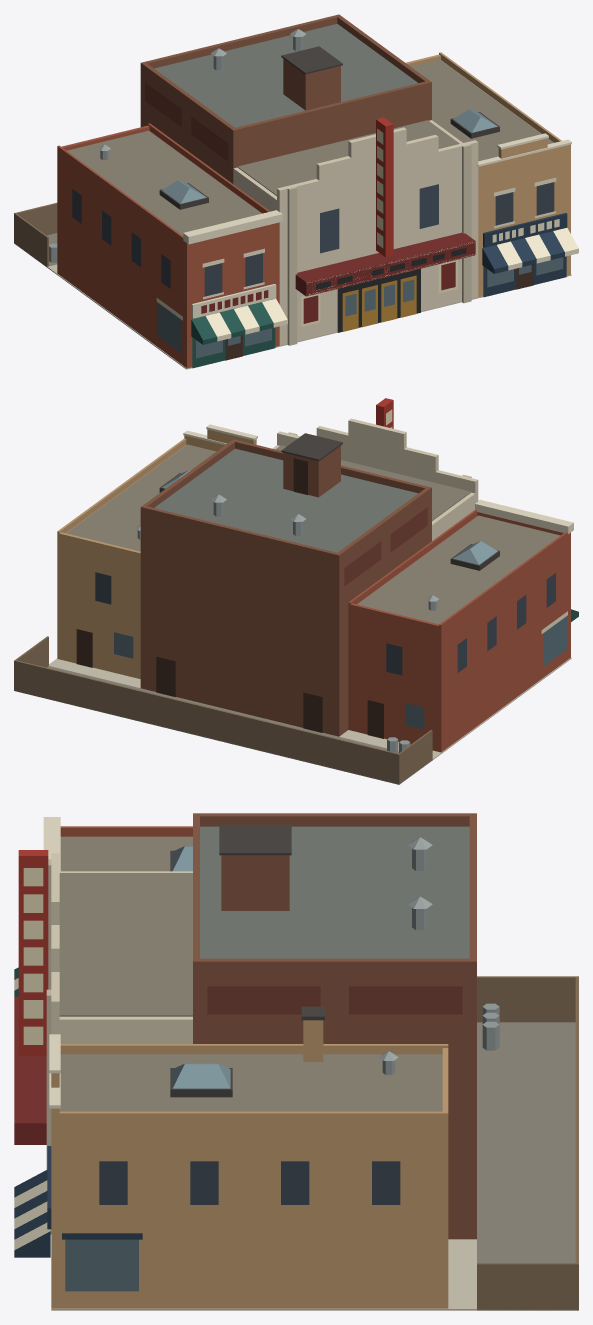
Rendered from highstreet_wf.glb.
The picture shows the model from 3 angles, top to bottom: view 1: azimuth 30°, elevation 25°; view 2: azimuth 150°, elevation 25°; view 3: azimuth 270°, elevation 25°; orthographic projection. The views are drawn at different scales.
Visible parts, largest first — view 1: highstreet_wf; view 2: highstreet_wf; view 3: highstreet_wf.
Part boxes in pixels (left/top/right/bottom): highstreet_wf: left=14, top=14, right=578, bottom=369; highstreet_wf: left=14, top=398, right=578, bottom=784; highstreet_wf: left=14, top=813, right=578, bottom=1310.
Size of the model in its own units: 18 by 9.56 by 14.93.
